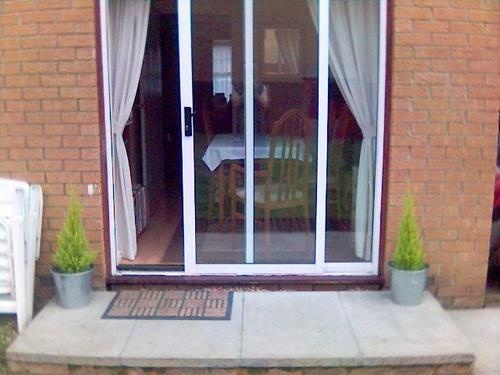chair: (231, 108, 314, 262), (200, 105, 257, 237), (295, 105, 351, 234)
pottedplant: (53, 185, 97, 311), (389, 192, 429, 306)
